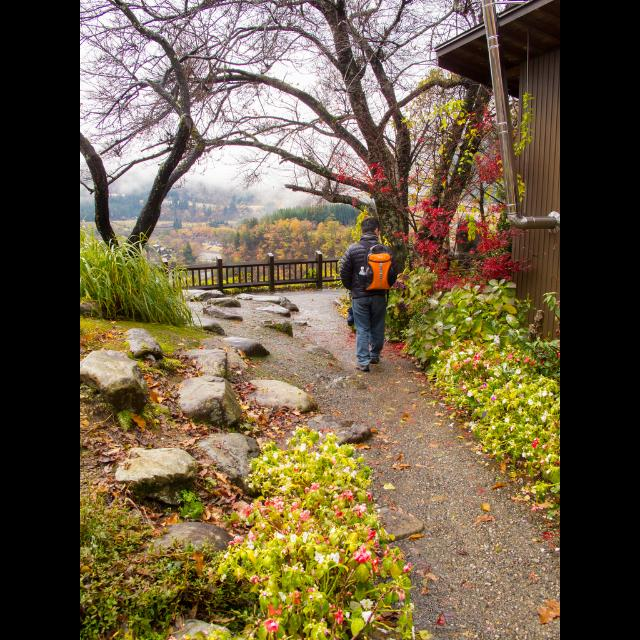Flower: (418, 245, 470, 292), (413, 198, 452, 240), (474, 146, 504, 186), (462, 226, 506, 250), (353, 545, 383, 569), (484, 260, 524, 278), (332, 606, 348, 628), (264, 621, 284, 633)
